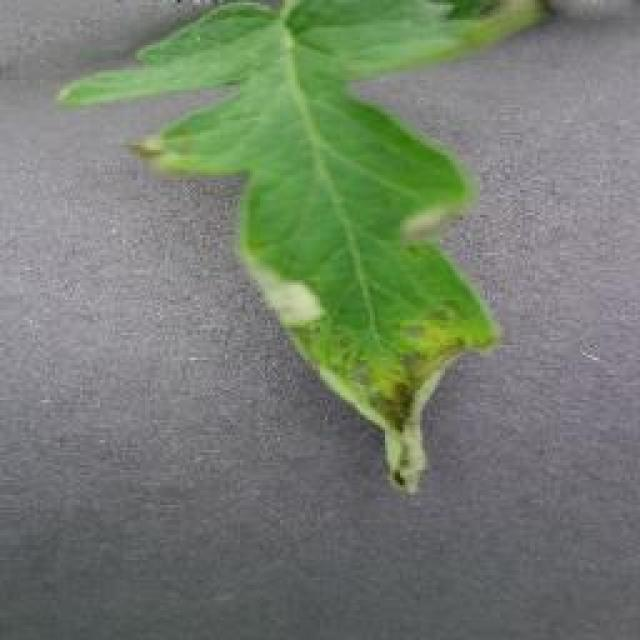Tomato late blight leaf: (54, 5, 556, 490)
